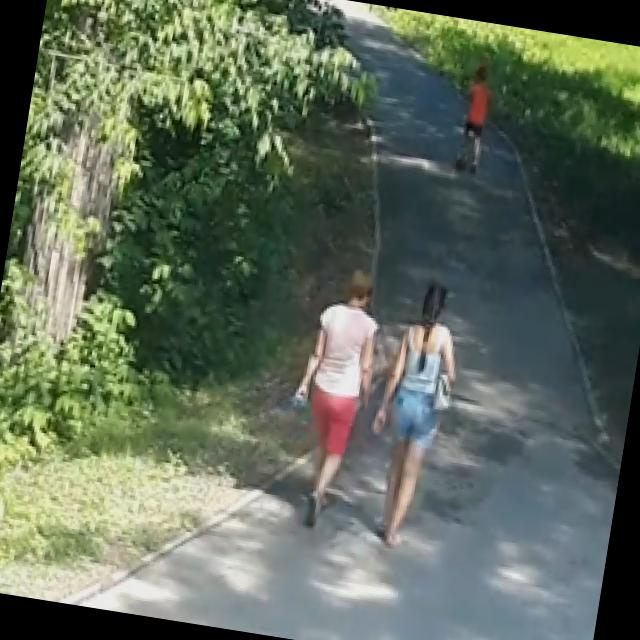person: (354, 276, 469, 552), (276, 264, 390, 534), (453, 62, 502, 176)
